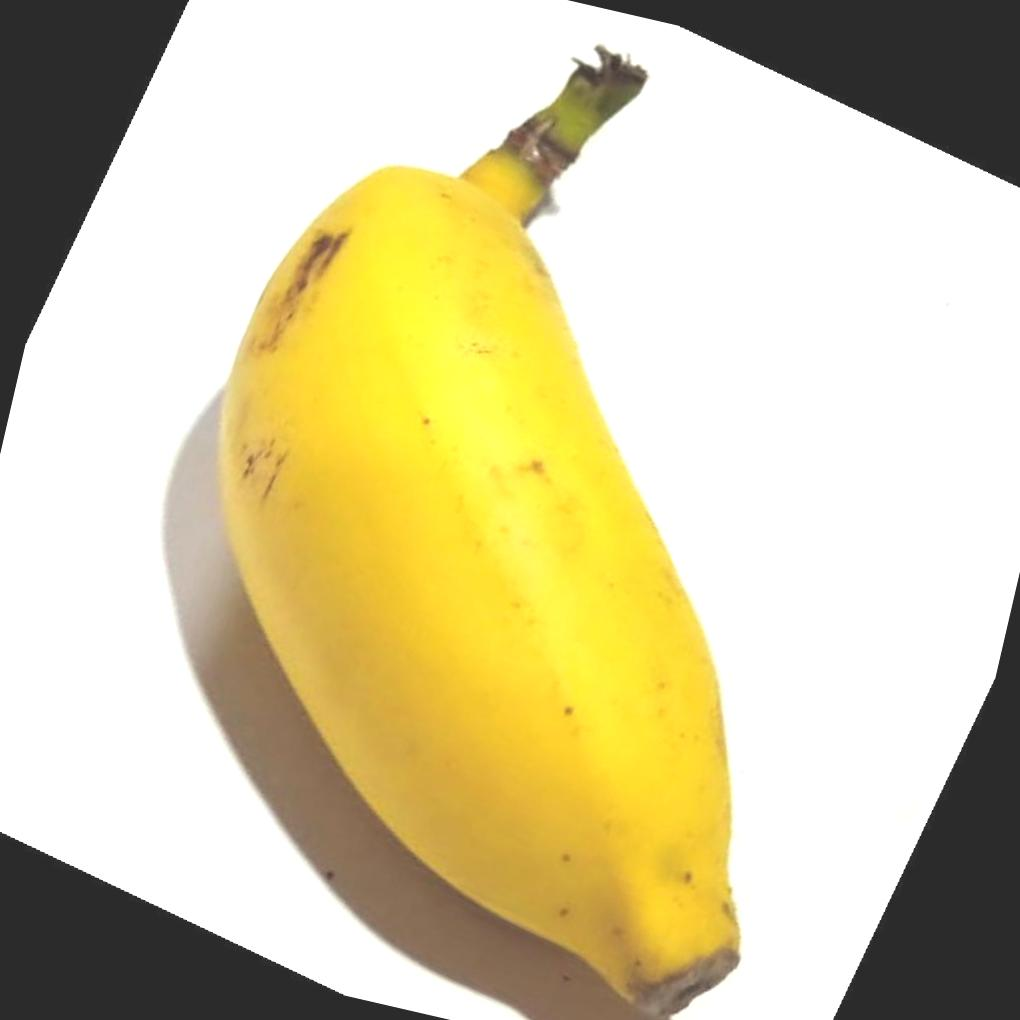Banana Ripe: (92, 54, 975, 1020)
